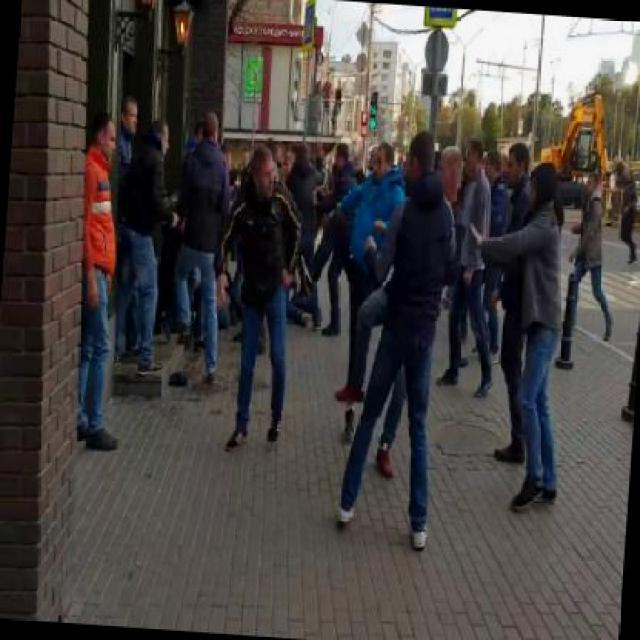fight: (223, 133, 411, 469)
non-fight: (74, 111, 140, 451)
